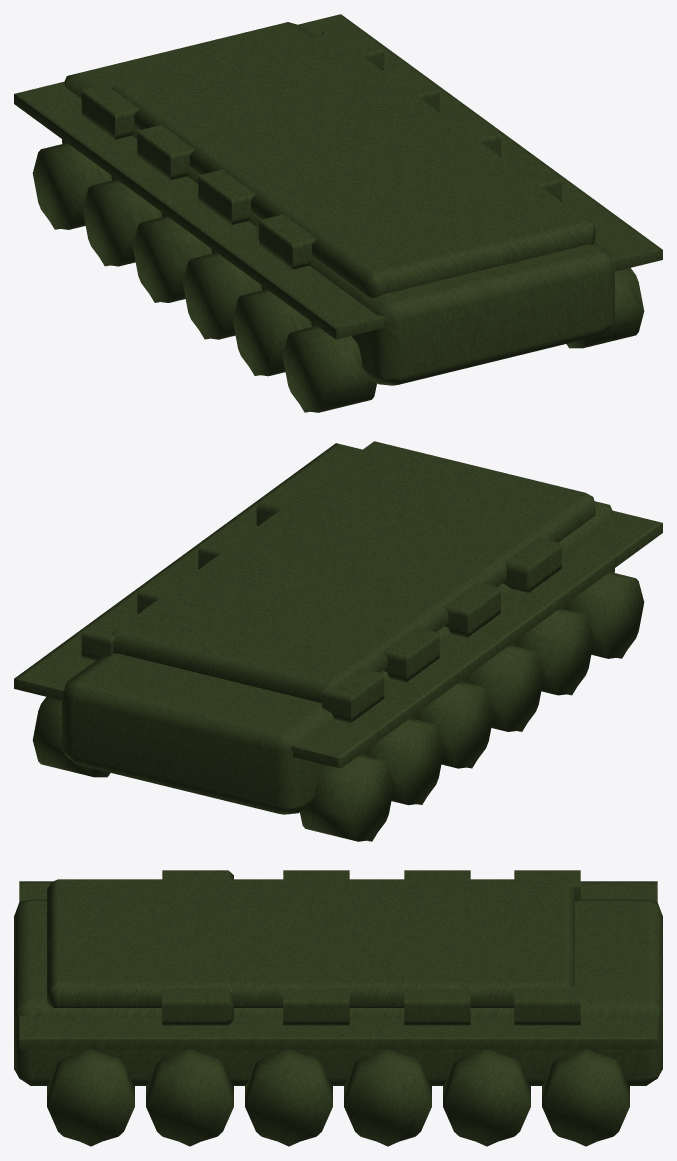
3 views of the same model, one above another, from view 1: azimuth 30°, elevation 25°; view 2: azimuth 150°, elevation 25°; view 3: azimuth 270°, elevation 25° (orthographic).
Size of the model in its own units: 3.4 by 1.4 by 5.9.
1 material, 1 textured.
